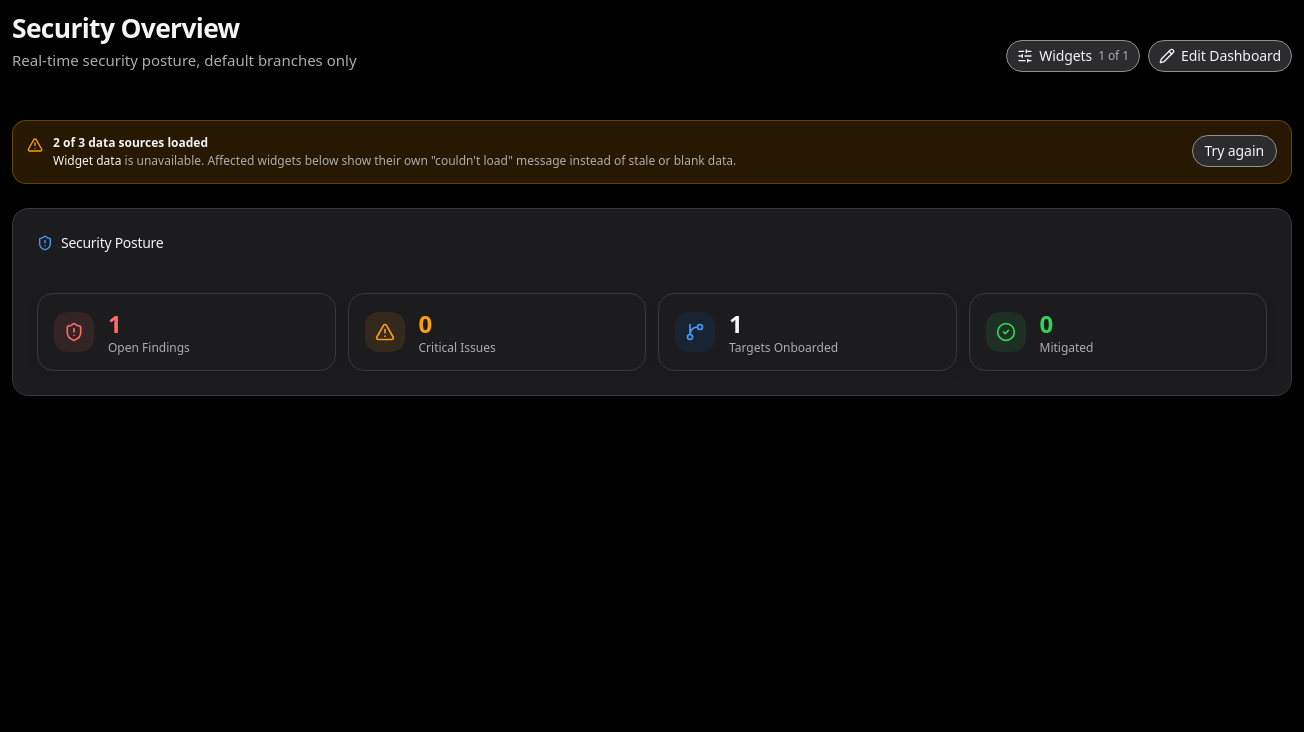
Scenario: DashboardBoard - widget data failure (no infinite Loading) › still shows Loading for a widget added in edit mode, not yet saved, even if a stale batch failed
Step 1. Click the button "Edit Dashboard" → (1220,56), box [1148, 40, 1292, 72]
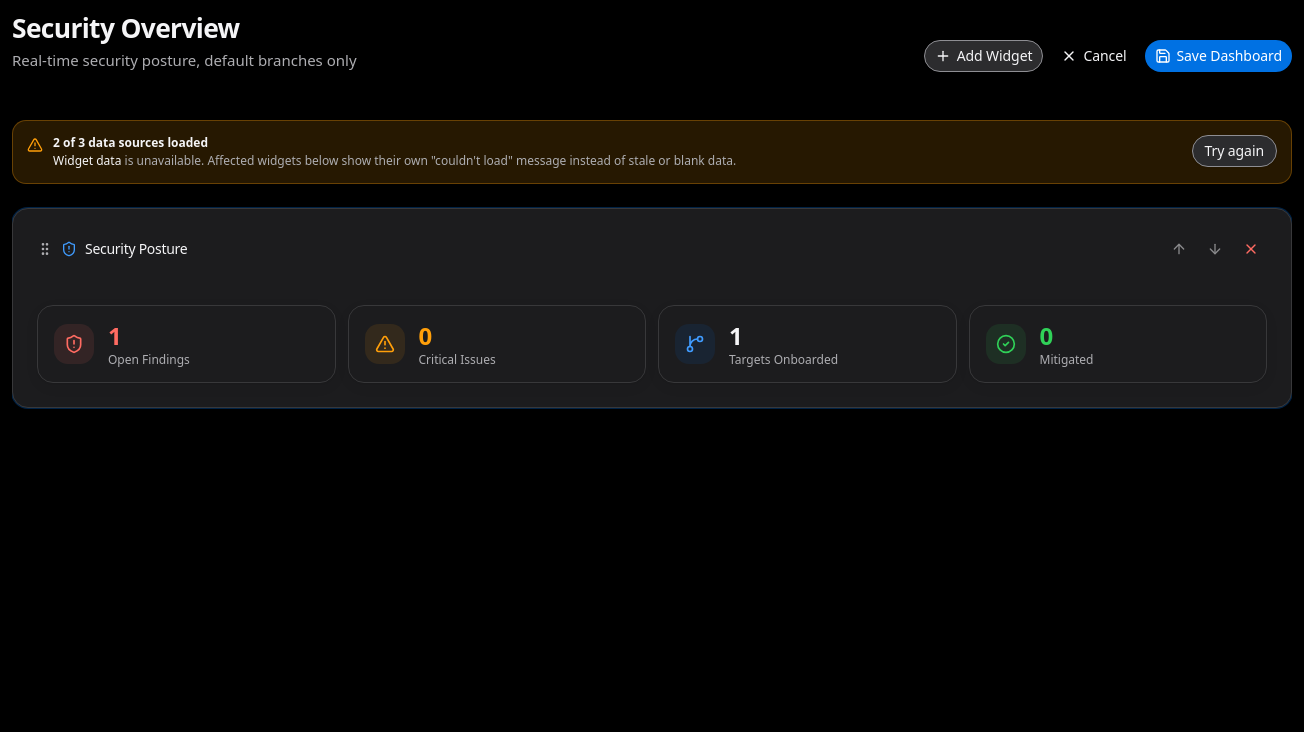
Step 2. Click the button "Add Widget" → (984,56), box [924, 40, 1043, 72]
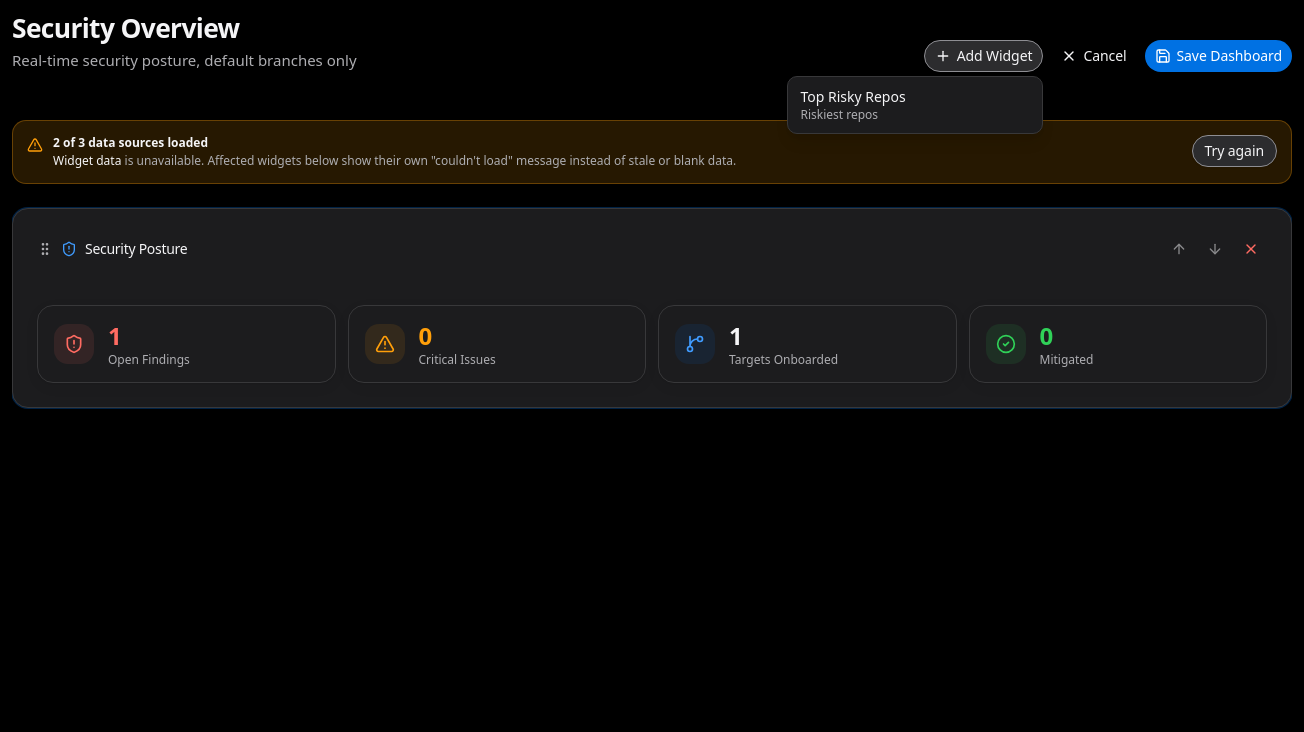
Step 3. Click the button "Top Risky Repos Riskiest repos" → (915,105), box [792, 81, 1038, 129]
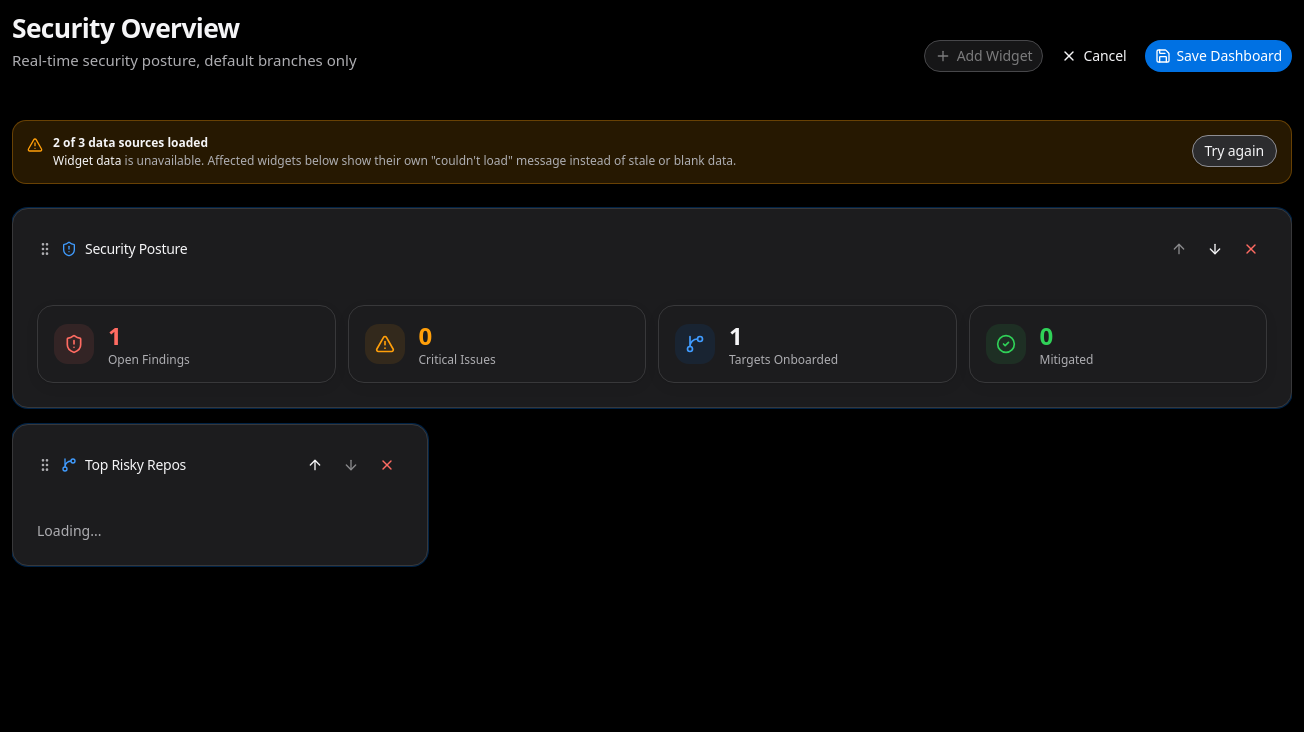
Result: the text "Loading..." is shown at [37, 521, 101, 540]
